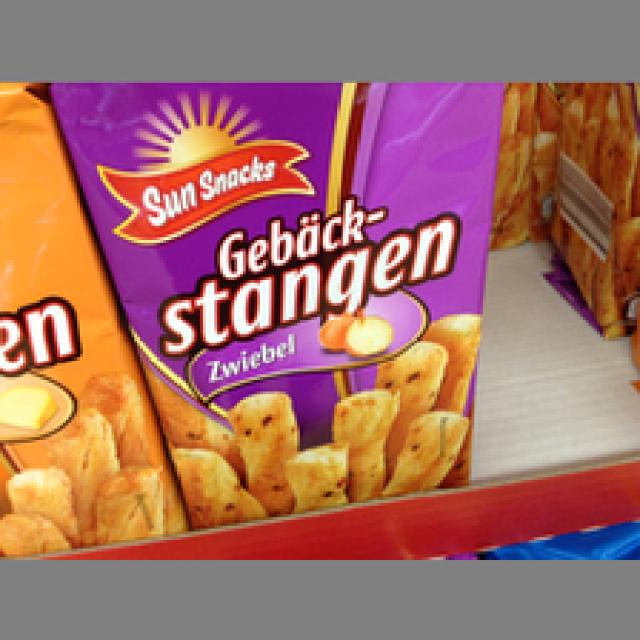groceries: (60, 77, 500, 517)
